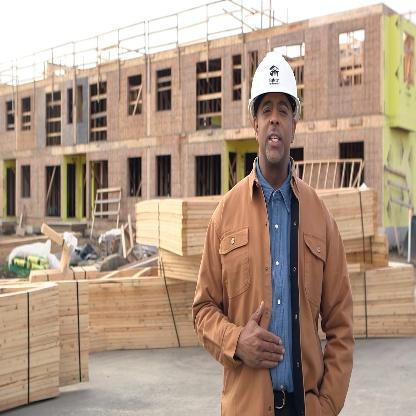helmet: (239, 51, 315, 172)
